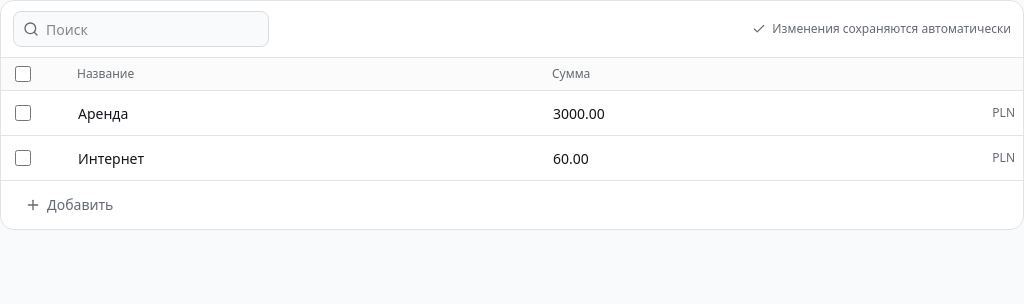
Test: sums selected monetary rows independently of edits and excludes search-hidden rows
Click the checkbox named "Выбрать все" at (23, 74), box [15,66,31,82]
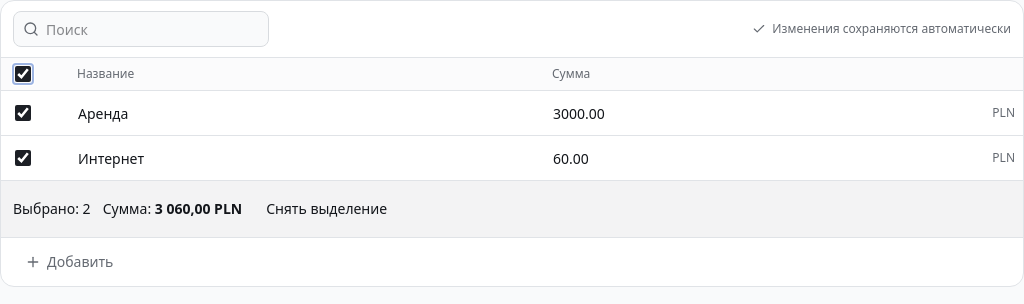
Check: the text "3 060,00 PLN" is shown, box [155,199,242,218]
Type "Интернет" into the field labelled "Поиск" at (141, 29), box [13,11,269,47]
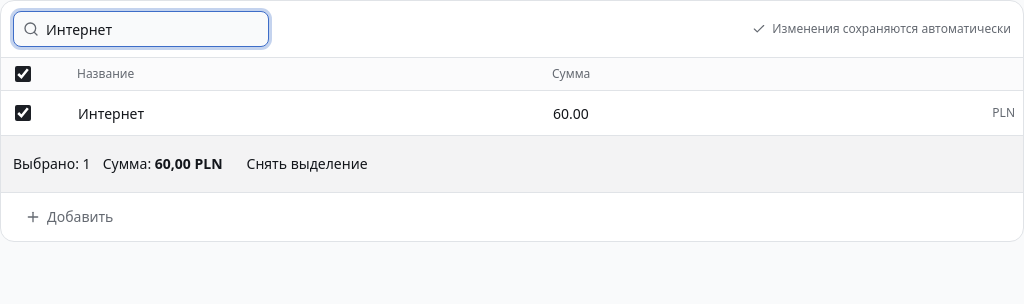
Check: the text "3 060,00 PLN" is gone
Check: the text "Выбрано: 1" is shown, box [13,154,91,174]
